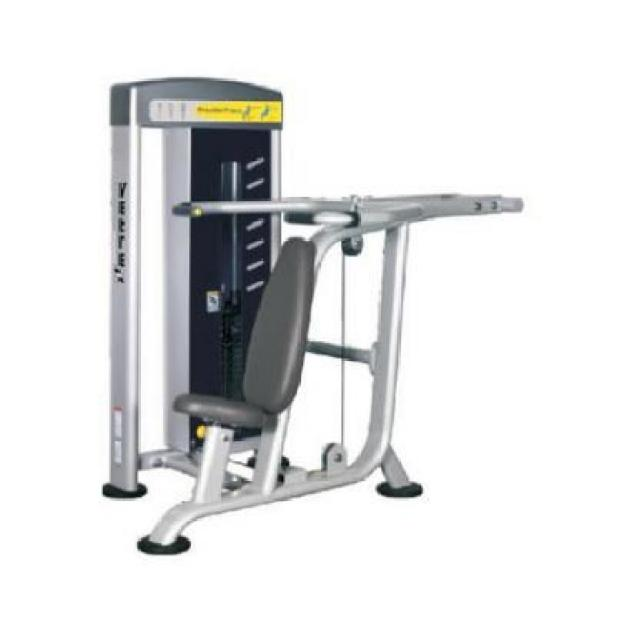shoulder press machine: (106, 77, 532, 557)
